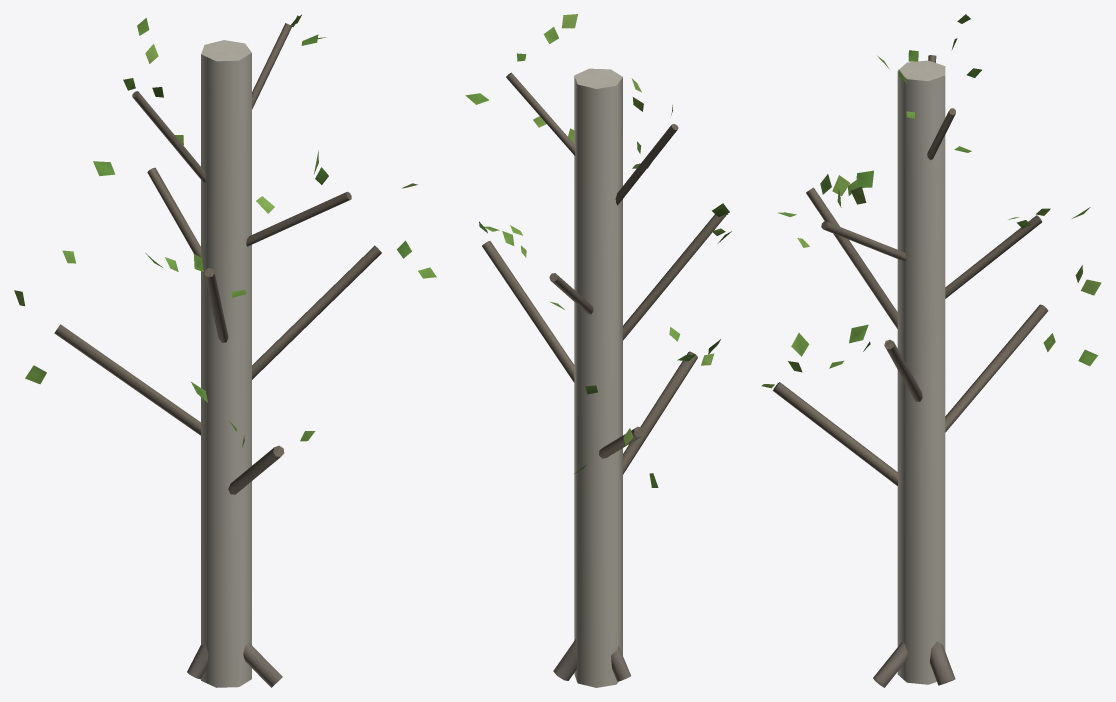
Rendered from mature-lod2.glb.
The picture shows the model from 3 angles, left to right: view 1: azimuth 30°, elevation 25°; view 2: azimuth 150°, elevation 25°; view 3: azimuth 270°, elevation 25°; orthographic projection. The views are drawn at different scales.
Visible parts, largest first — view 1: birch-bark-branches-buried-roots-ground-blend, birch-bifurcated-twigs-and-leaves; view 2: birch-bark-branches-buried-roots-ground-blend, birch-bifurcated-twigs-and-leaves; view 3: birch-bark-branches-buried-roots-ground-blend, birch-bifurcated-twigs-and-leaves.
Boxes of the visible parts, x1,y1,x2,y2 form: birch-bark-branches-buried-roots-ground-blend: [54, 23, 381, 687]; birch-bifurcated-twigs-and-leaves: [14, 14, 436, 447]; birch-bark-branches-buried-roots-ground-blend: [482, 68, 729, 687]; birch-bifurcated-twigs-and-leaves: [465, 14, 731, 487]; birch-bark-branches-buried-roots-ground-blend: [772, 55, 1048, 687]; birch-bifurcated-twigs-and-leaves: [761, 14, 1101, 388].
Bounding box in the file's own units: 9.88 × 21.35 × 10.27.
